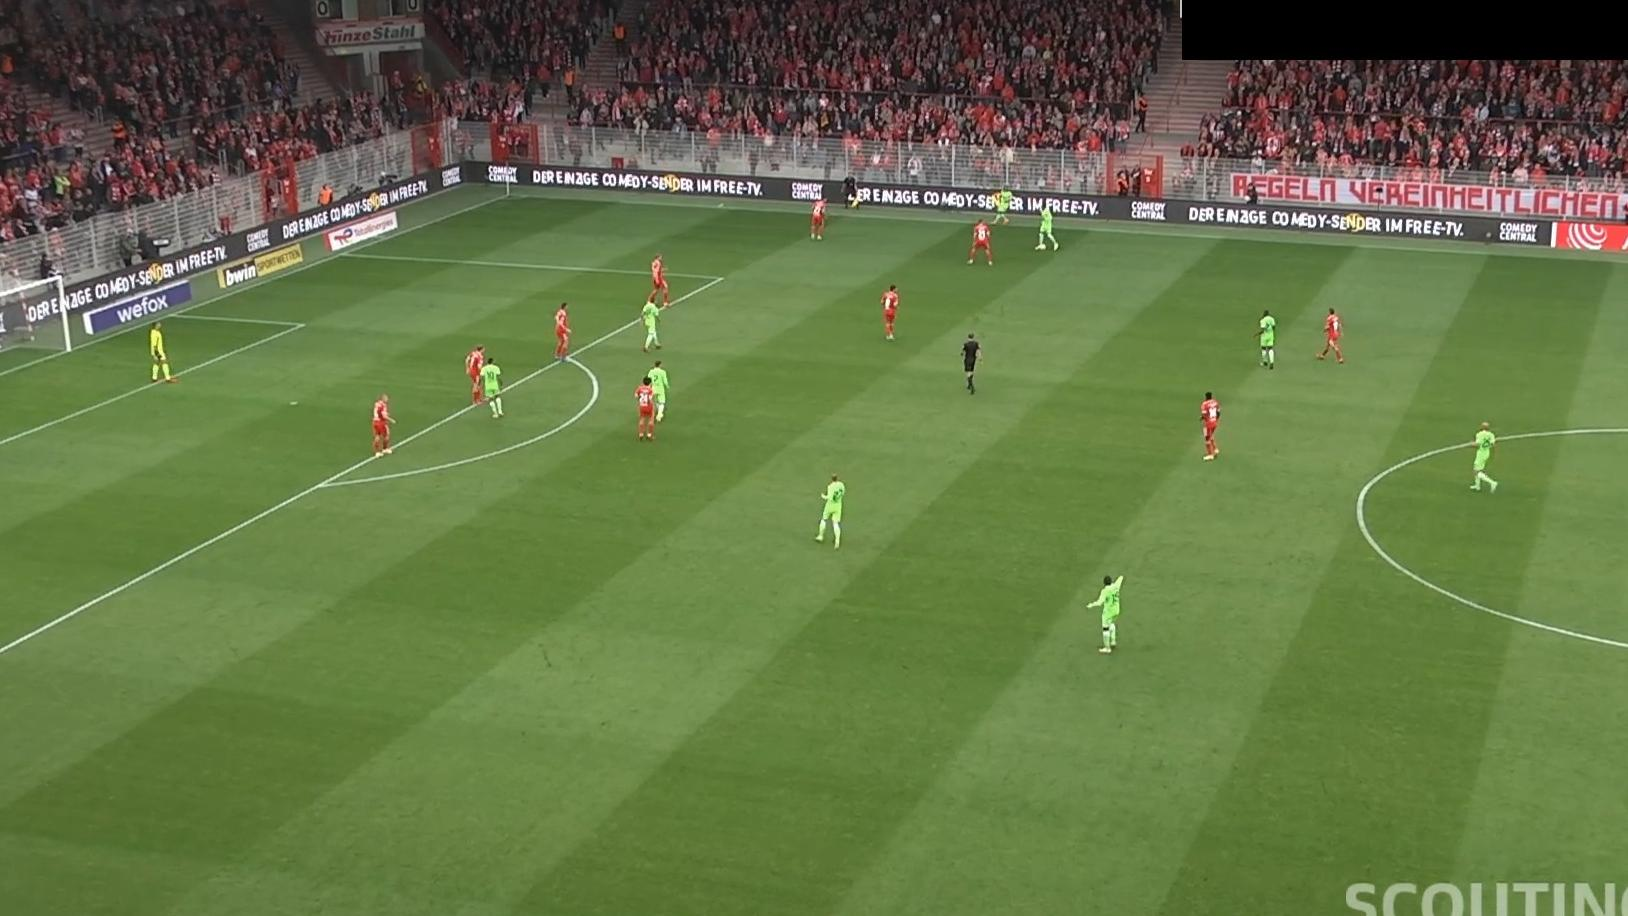ball: (1038, 243, 1047, 252)
